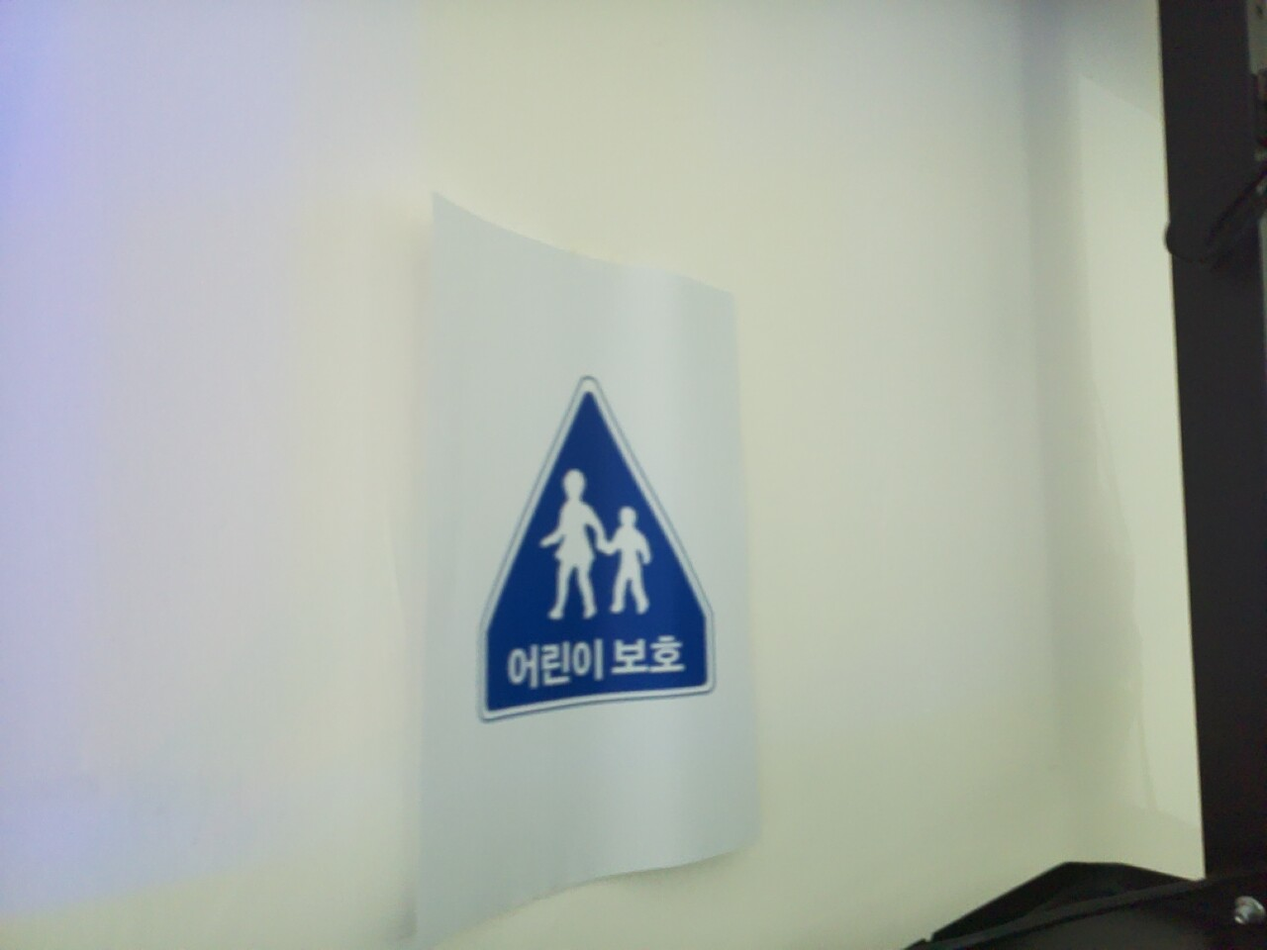school_zone: (477, 382, 716, 721)
